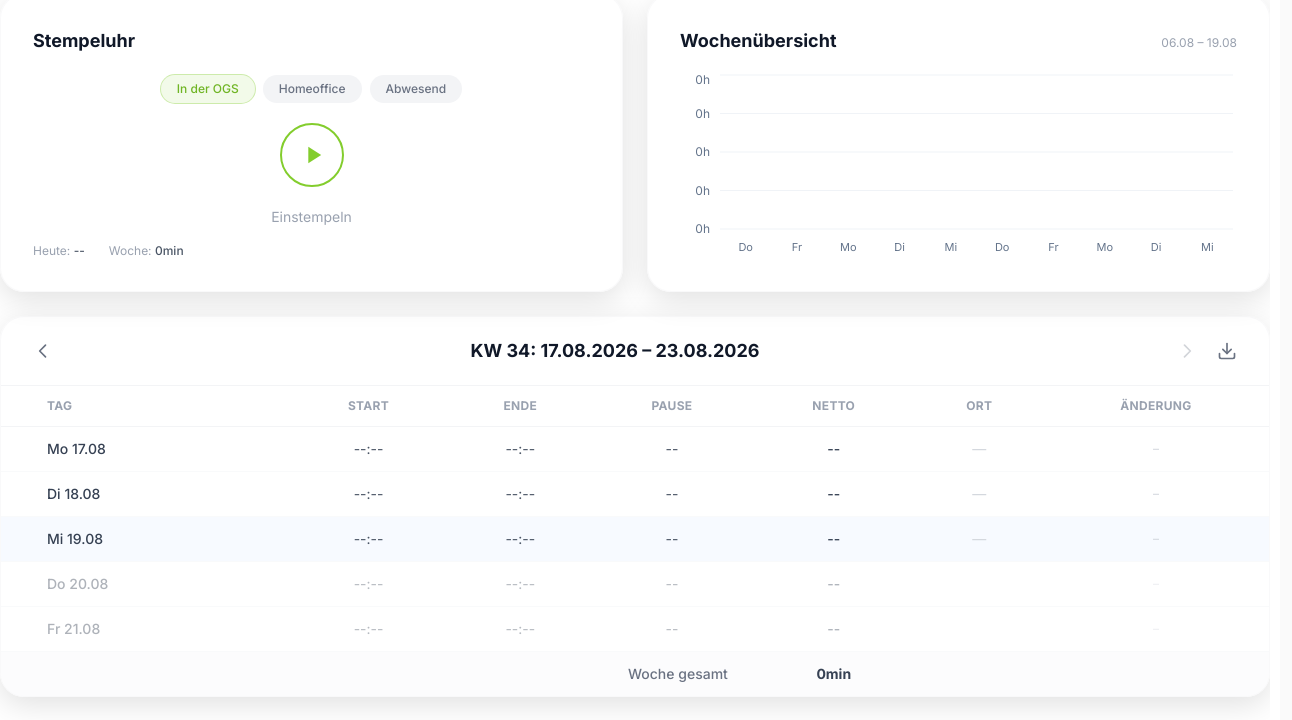
TimeTrackingPage › ExportDropdown › shows MiniCalendar month navigation
The width and height of the screenshot is (1292, 720).
What coordinates should you click on to do the following:
click the button named "Export"
I would click on:
 (1227, 351)
Its box is x1=1209 y1=333 x2=1245 y2=369.
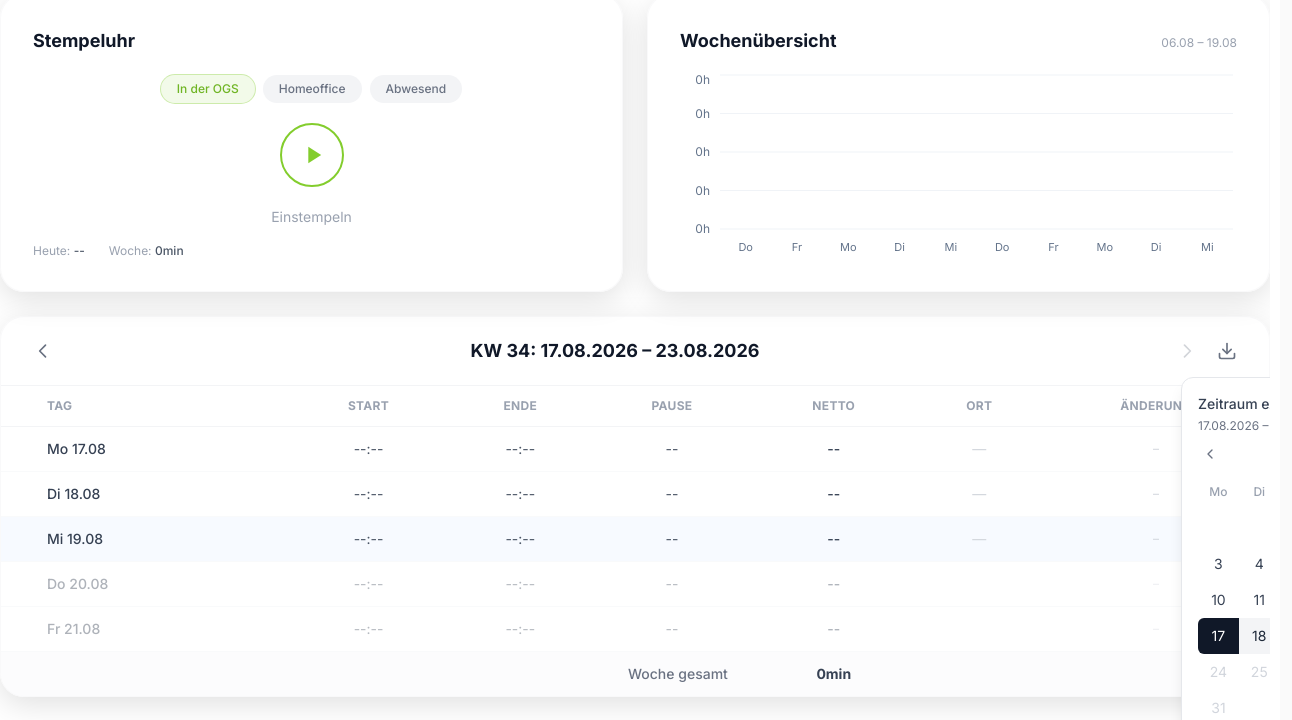
Expected: the button named "Vorheriger Monat" is shown, x1=1198 y1=442 x2=1222 y2=466
